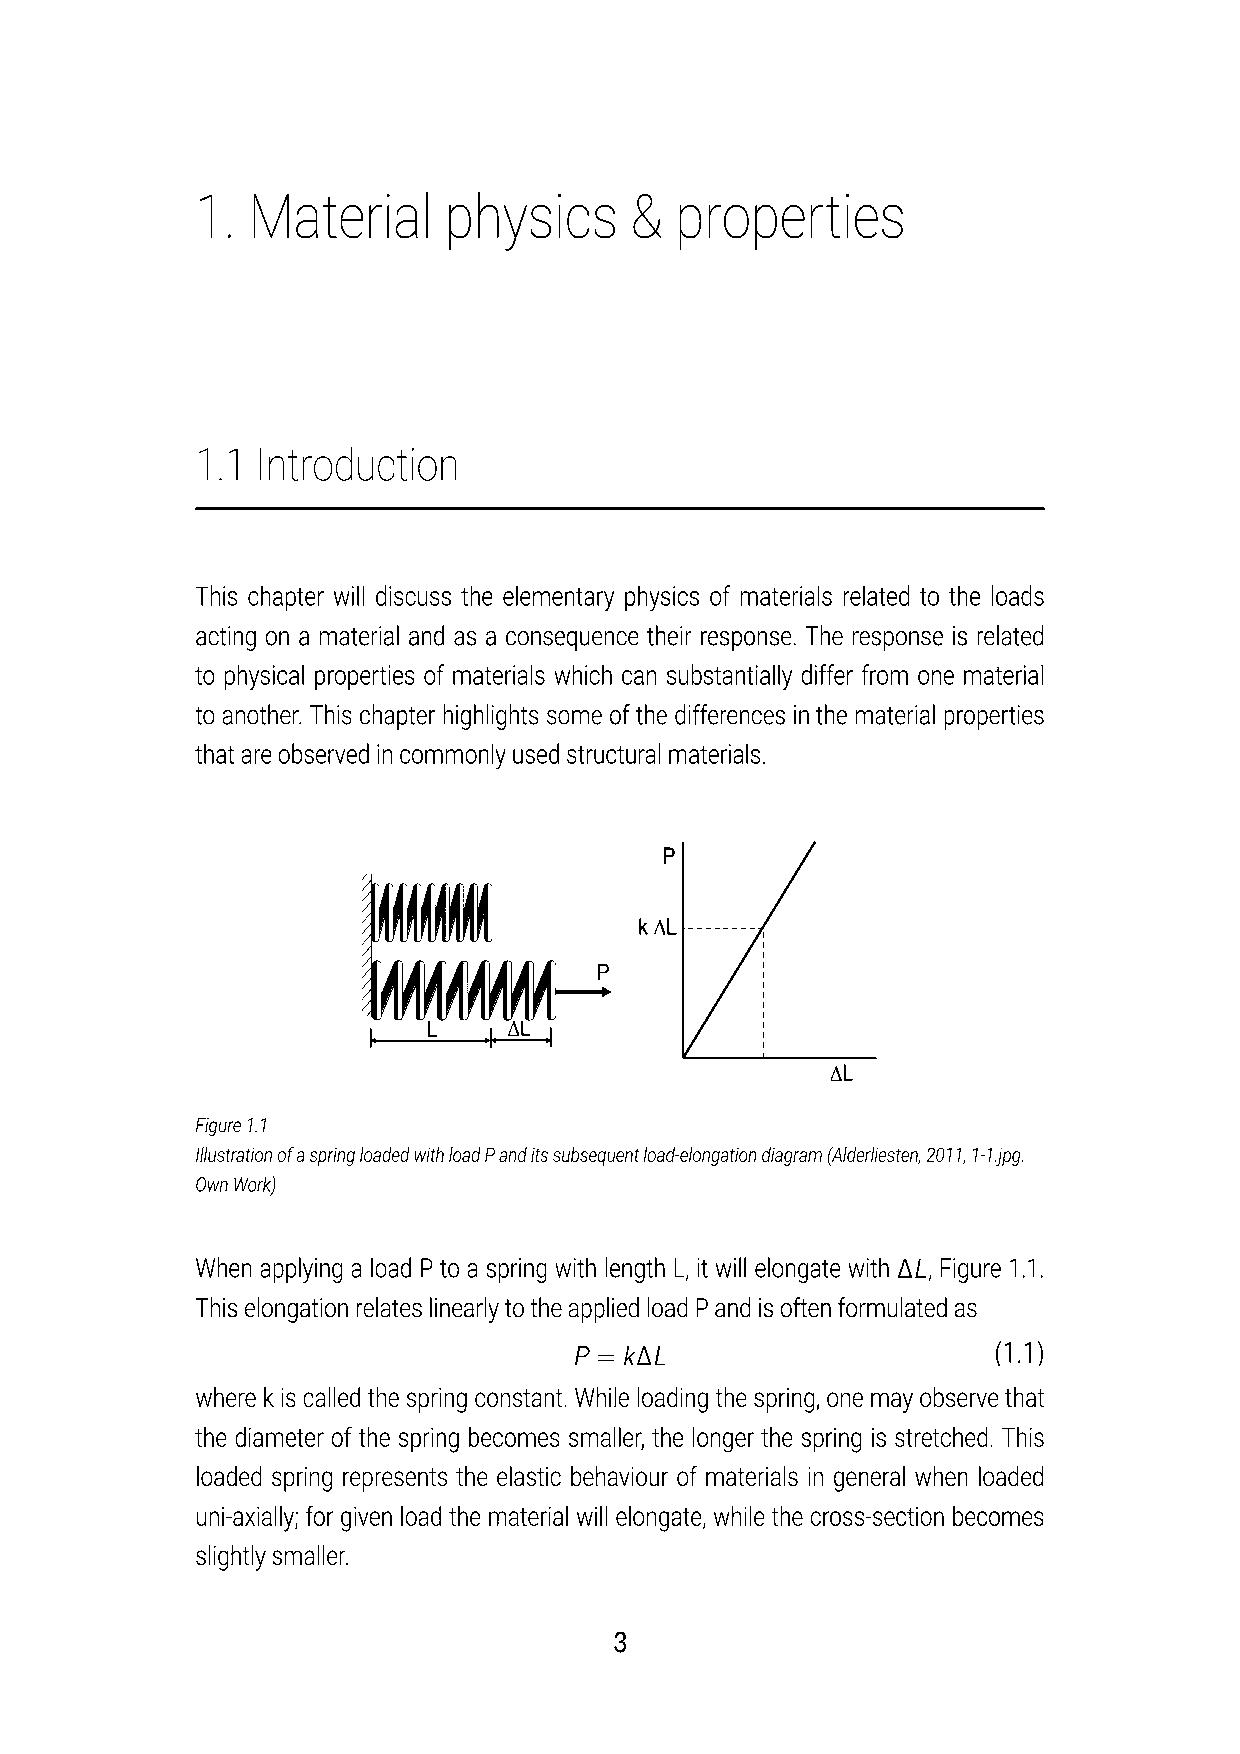chapter: (193, 187, 905, 254), (193, 440, 459, 484)
content: (191, 578, 1045, 1574)
content_pagenumber: (607, 1625, 631, 1655)
